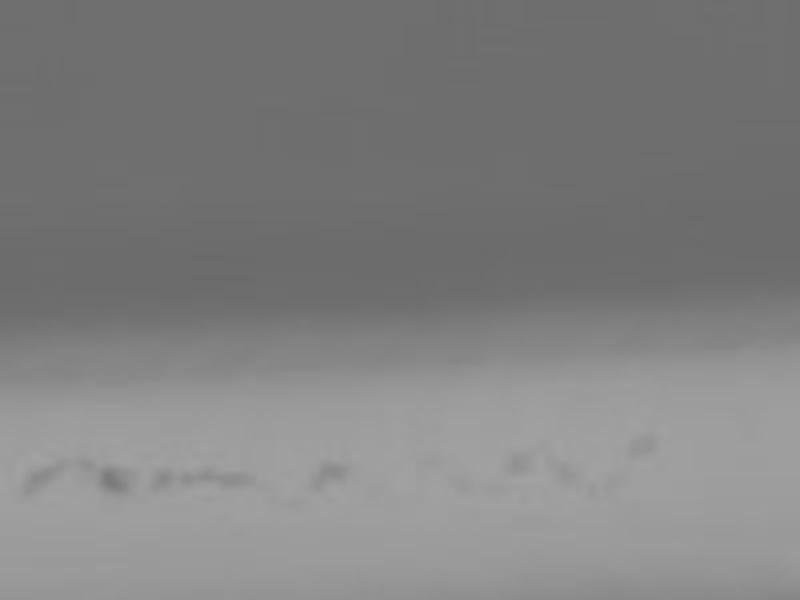defect: (97, 463, 137, 494), (623, 432, 657, 459), (213, 471, 255, 489), (319, 458, 350, 482), (14, 474, 40, 502), (553, 456, 580, 482), (504, 449, 532, 473), (147, 468, 174, 492), (34, 461, 59, 482), (192, 465, 214, 484), (175, 466, 193, 485), (307, 473, 322, 492), (77, 455, 96, 469)
